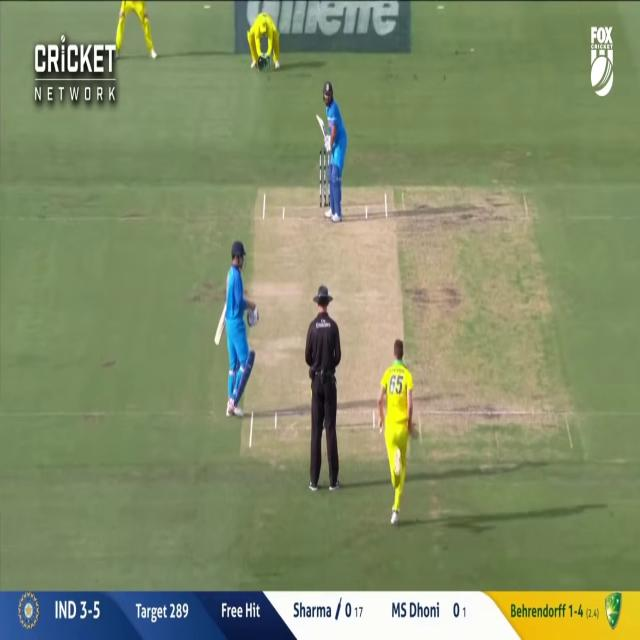stump: (320, 149, 331, 207)
